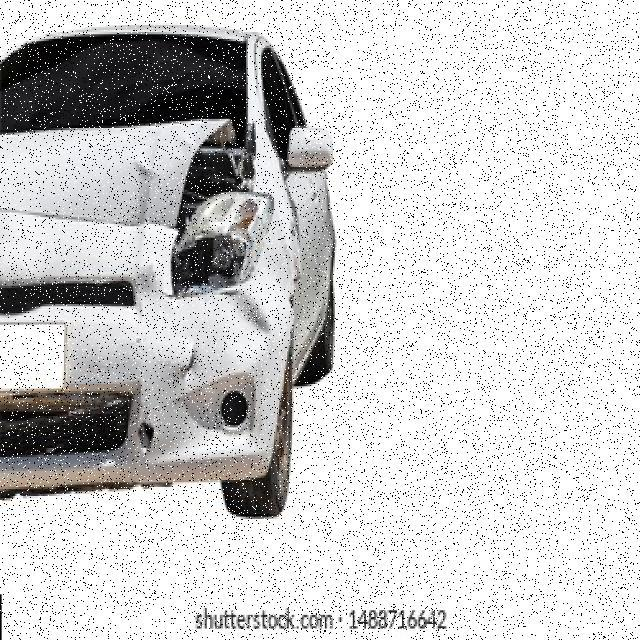Headlight-Damage: (158, 142, 264, 290)
bonnet-dent: (2, 121, 220, 294)
front-bumper-dent: (0, 288, 274, 500)
